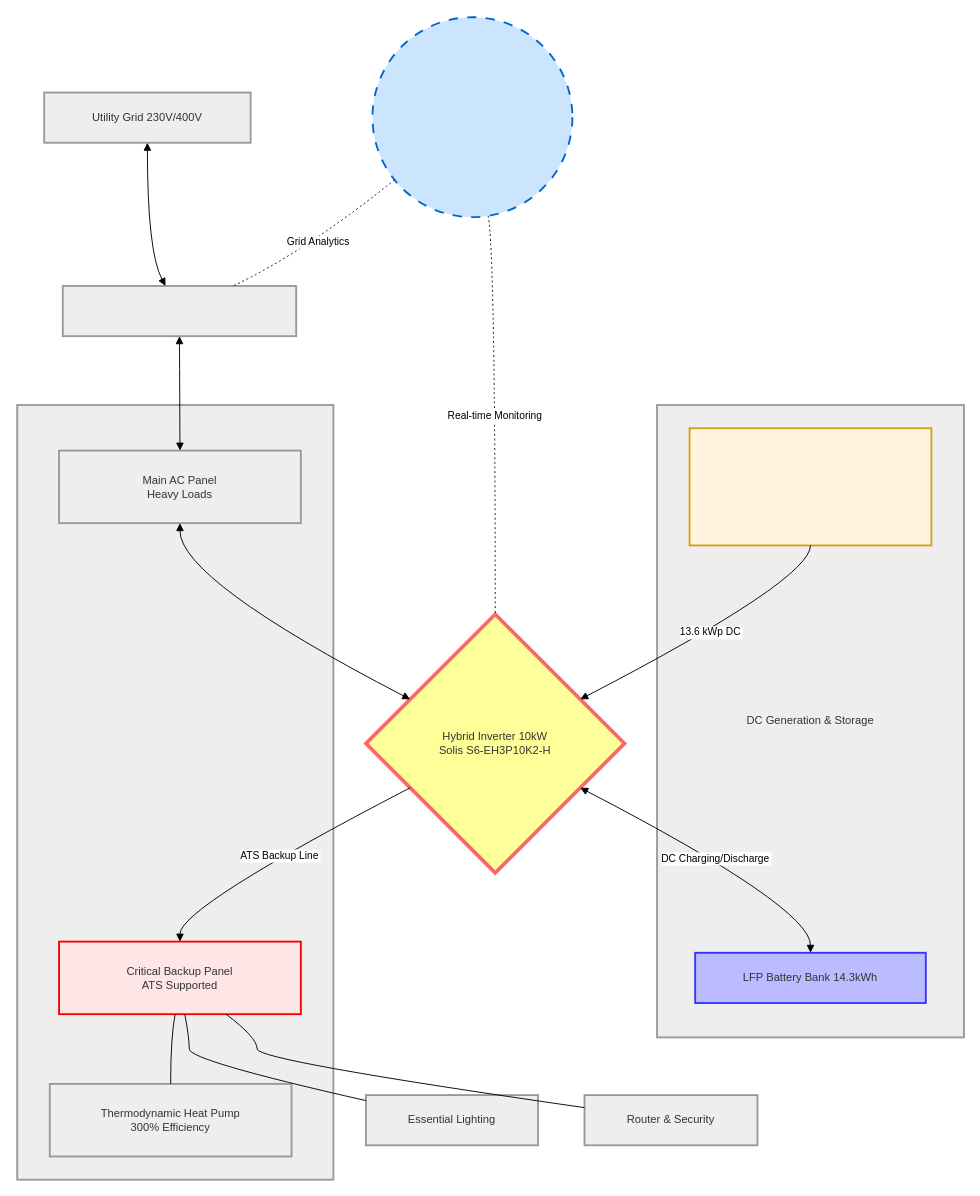
Image size: 980x1196. Some labels were removed from this diagram. The shapes that lost their labels are listed below. From the top down, each one's box as (x1, y1, x2, y2) in pixels, then its label:
(371, 16, 573, 218): Smart EMS Dashboard Streamlit V3
(61, 285, 297, 337): Bi-Directional Smart Meter
(688, 427, 932, 546): PV Array Configuration 4 Strings of 5x 680Wp modules Total 13.6 kWp DC
(16, 404, 334, 1180): Lounge Load Management
